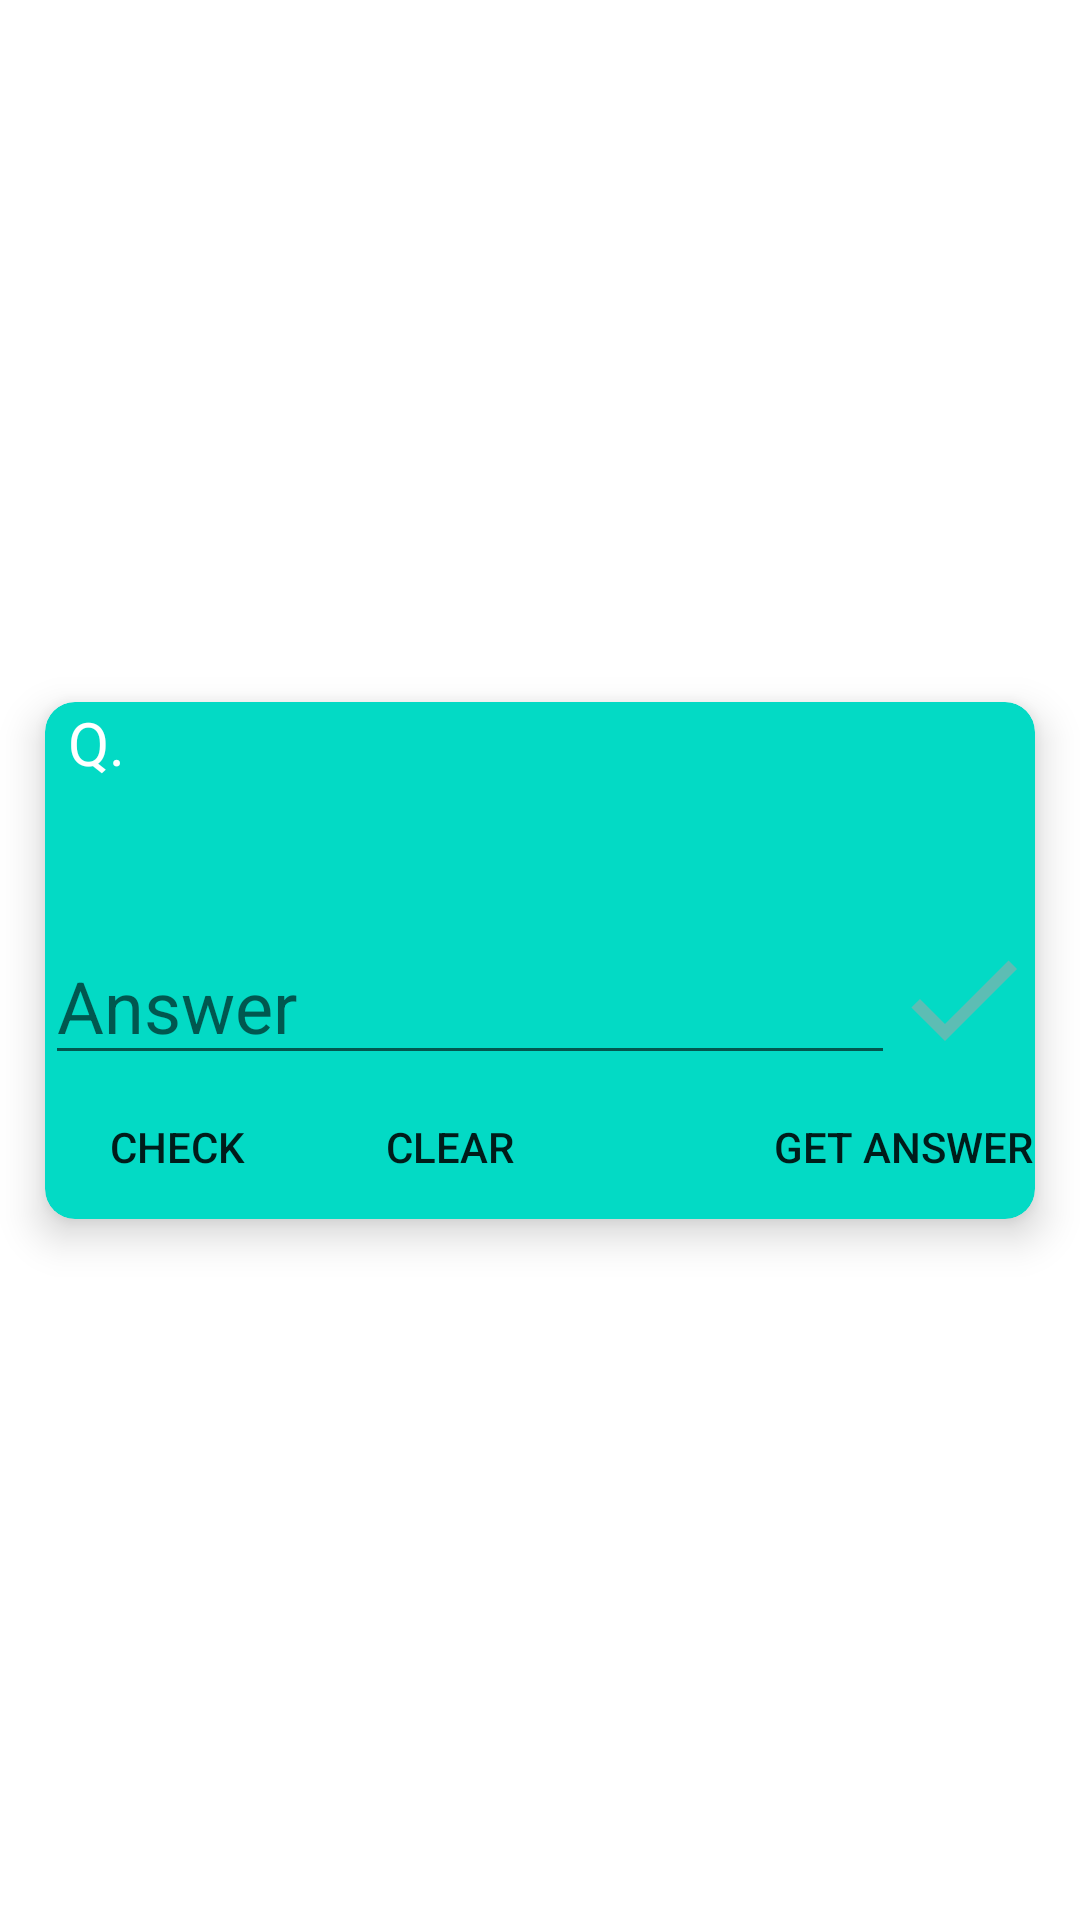

Icon bounding boxes for this 1080×1920 phone screenshot, format (left=x1, top=y1, right=x2, bottom=y2):
unchecked: (left=911, top=960, right=1017, bottom=1041)
